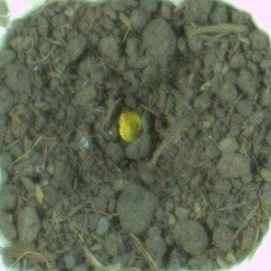pepper seed: (43, 39, 191, 182)
